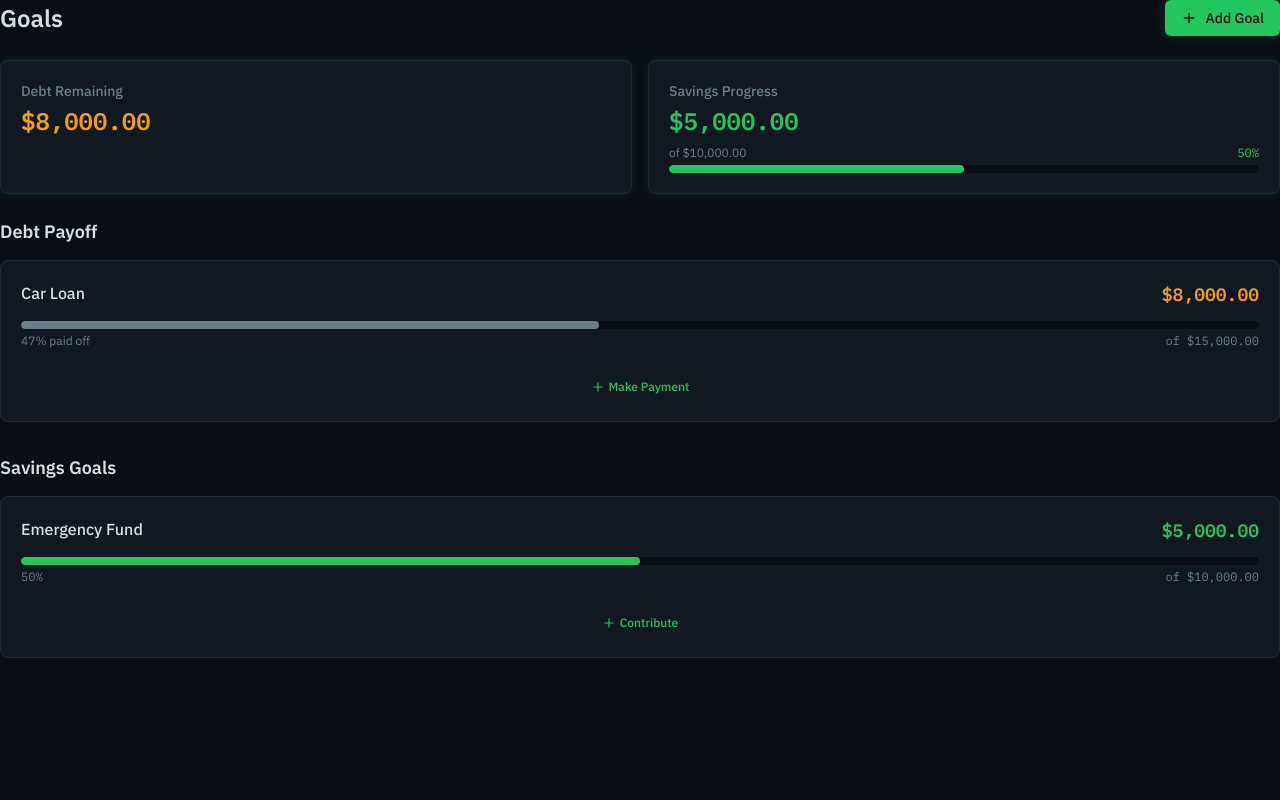
Test: Goals › opens edit modal when clicking a goal
What coordinates should you click on to do the following:
click the text "Emergency Fund"
I would click on:
 (82, 529)
Its box is left=21, top=517, right=143, bottom=541.
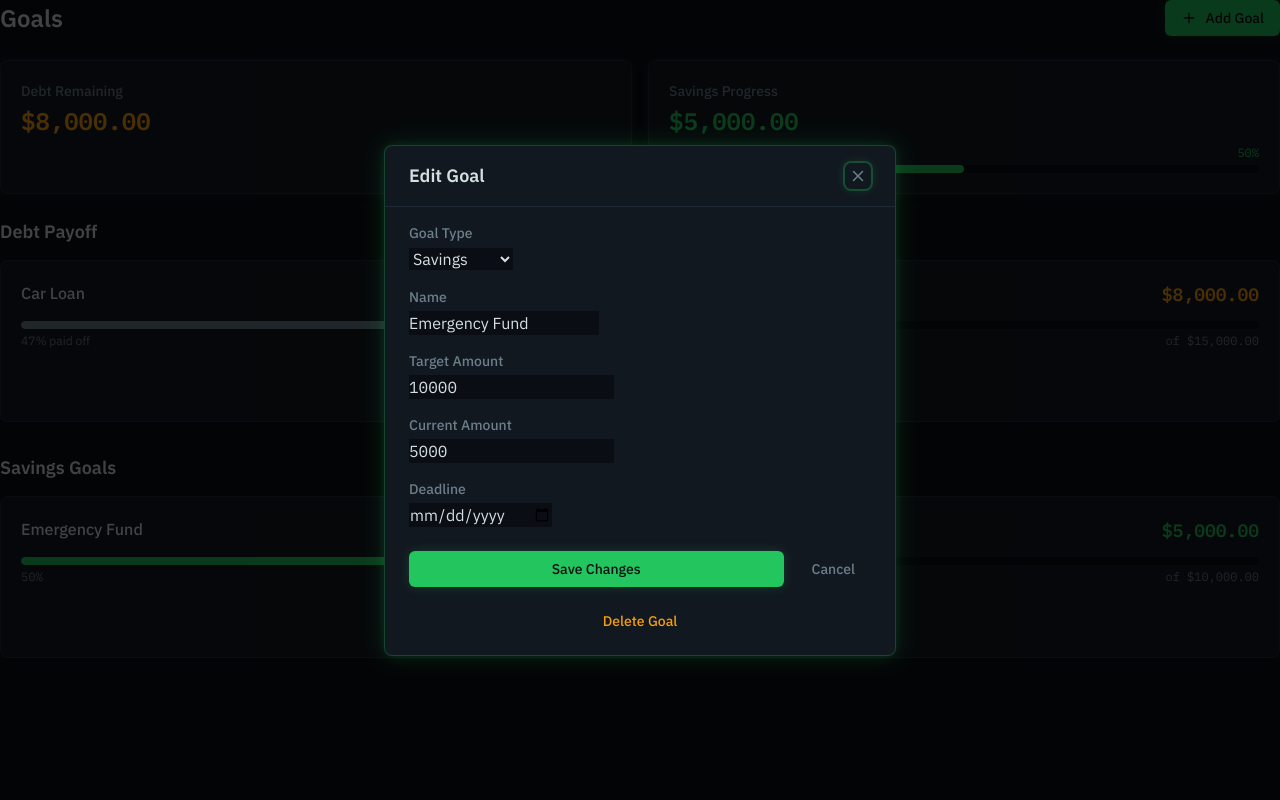
expect the dialog is shown: met, box left=384, top=144, right=896, bottom=656
expect the heading "Edit Goal" is shown: met, box left=409, top=162, right=485, bottom=190
expect the button "Delete Goal" is shown: met, box left=409, top=602, right=871, bottom=638
